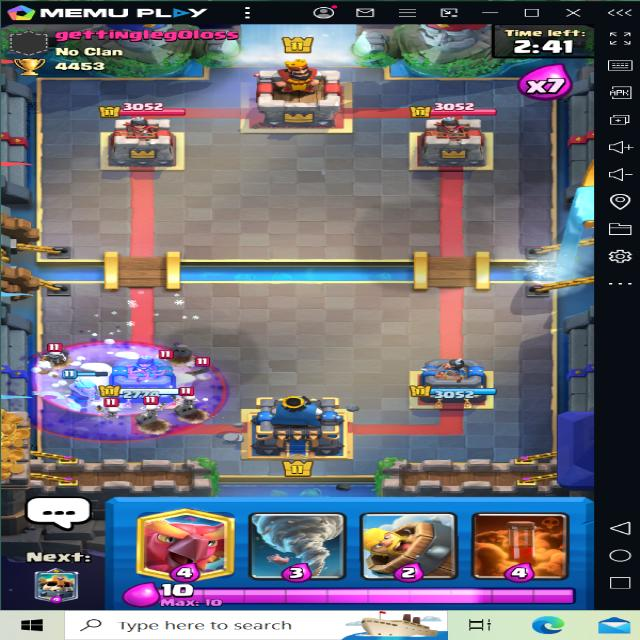Freeze: (41, 339, 197, 416)
Graveyard: (13, 327, 230, 445)
Skeleton: (135, 395, 164, 415), (177, 388, 202, 408), (99, 399, 125, 418), (45, 344, 70, 361)
